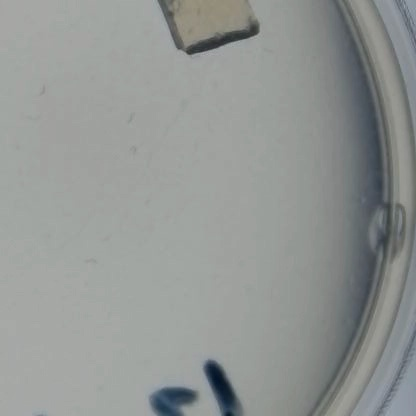worm: (121, 106, 147, 130), (30, 79, 53, 101), (259, 44, 278, 62), (130, 135, 146, 156), (81, 254, 102, 270), (98, 231, 118, 246)
